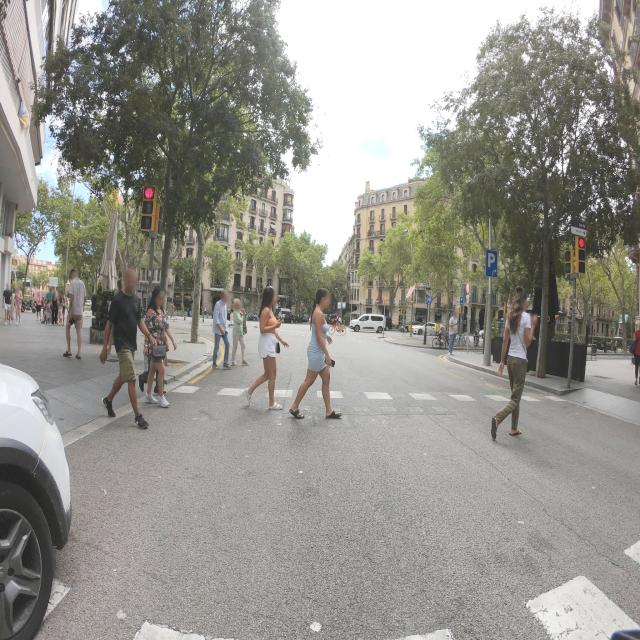car: (0, 275, 73, 640), (349, 312, 385, 332), (410, 321, 437, 337), (279, 307, 293, 323), (247, 312, 257, 321)
